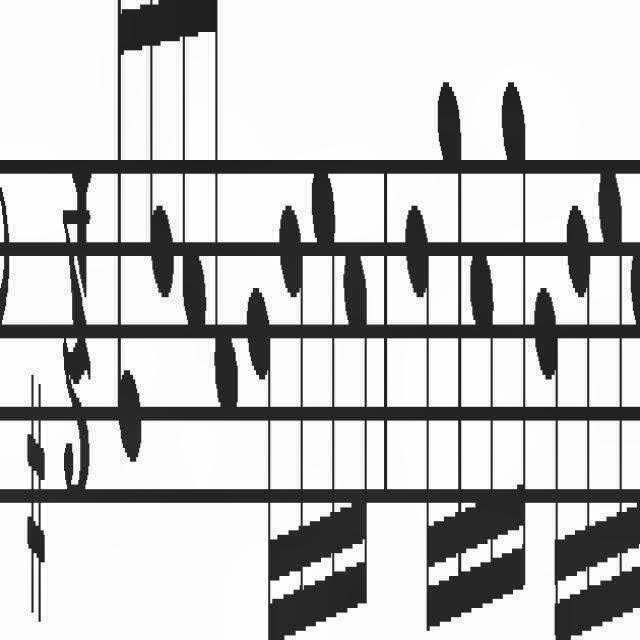Bass-clef: (0, 42, 10, 622)
Diez: (26, 364, 46, 620)
Sixteenth-note: (435, 71, 465, 628), (404, 210, 441, 640), (112, 0, 144, 480), (498, 70, 526, 602), (206, 0, 238, 412), (596, 166, 624, 634), (245, 279, 280, 640), (309, 170, 336, 630), (564, 206, 592, 640), (278, 210, 306, 640), (340, 243, 368, 625), (469, 246, 495, 622), (534, 292, 562, 640), (148, 0, 176, 312), (179, 0, 204, 328), (628, 252, 640, 626)
